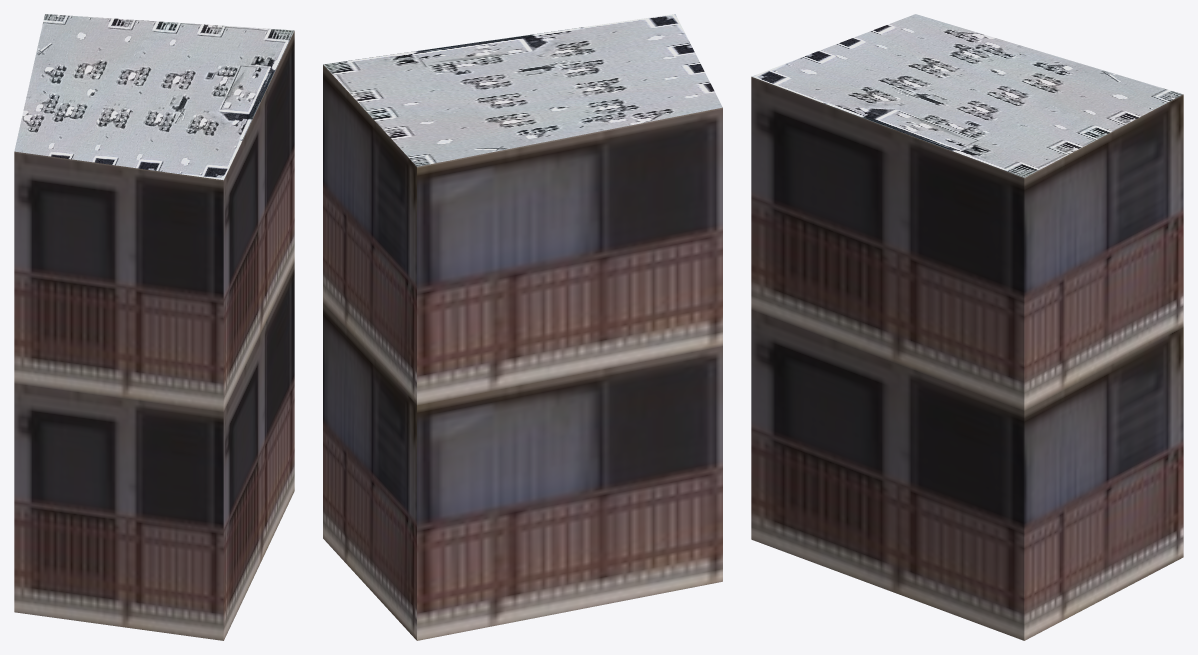
Rendered from ResTex__1996.fbx.
The picture shows the model from 3 angles, left to right: view 1: azimuth 30°, elevation 25°; view 2: azimuth 150°, elevation 25°; view 3: azimuth 270°, elevation 25°; orthographic projection. The views are drawn at different scales.
Visible parts, largest first — view 1: CityEngineMaterial_6_m, CityEngineMaterial_2_m; view 2: CityEngineMaterial_6_m, CityEngineMaterial_2_m; view 3: CityEngineMaterial_6_m, CityEngineMaterial_2_m.
Part boxes in pixels (x1,y1,x2,y2): CityEngineMaterial_6_m: (14, 31, 294, 640); CityEngineMaterial_2_m: (14, 14, 294, 180); CityEngineMaterial_6_m: (323, 64, 722, 640); CityEngineMaterial_2_m: (323, 14, 722, 166); CityEngineMaterial_6_m: (751, 76, 1183, 640); CityEngineMaterial_2_m: (752, 14, 1182, 177).
Size of the model in its own units: 4.56 by 6 by 5.07.
2 materials, 2 textured.
